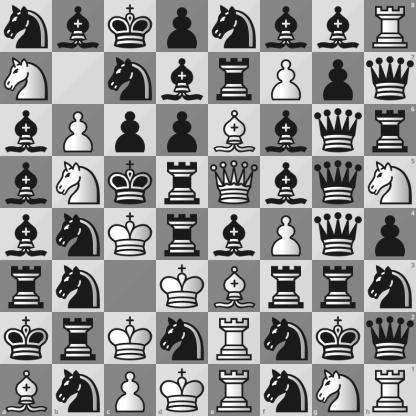B: (0, 364, 52, 416), (209, 105, 260, 156), (209, 261, 260, 312)
K: (156, 364, 209, 416), (105, 209, 156, 260), (105, 313, 156, 364), (157, 261, 208, 312)
N: (364, 156, 416, 209), (312, 364, 364, 416), (1, 53, 52, 104), (53, 157, 104, 208)
P: (104, 364, 156, 416), (53, 105, 104, 156), (261, 53, 312, 104), (261, 209, 312, 260)
Q: (209, 157, 260, 208)
R: (364, 0, 416, 52), (364, 364, 416, 416), (209, 364, 260, 416), (209, 313, 260, 364)
b: (1, 105, 52, 156), (1, 157, 52, 208), (1, 209, 52, 260), (53, 1, 104, 52), (157, 53, 208, 104), (209, 209, 260, 260), (261, 1, 312, 52), (261, 105, 312, 156), (261, 157, 312, 208), (313, 1, 364, 52)
board: (0, 0, 415, 415)
k: (1, 313, 52, 364), (105, 1, 156, 52), (105, 157, 156, 208), (313, 313, 364, 364)
n: (52, 364, 104, 416), (260, 364, 312, 416), (364, 260, 416, 312), (1, 1, 52, 52), (53, 209, 104, 260), (53, 261, 104, 312), (105, 53, 156, 104), (157, 313, 208, 364), (209, 1, 260, 52), (261, 313, 312, 364)
p: (364, 209, 416, 260), (105, 105, 156, 156), (157, 1, 208, 52), (157, 105, 208, 156), (313, 53, 364, 104)
q: (364, 52, 416, 104), (364, 312, 416, 364), (313, 105, 364, 156), (313, 157, 364, 208), (313, 209, 364, 260)
r: (364, 104, 416, 156), (1, 261, 52, 312), (53, 313, 104, 364), (157, 157, 208, 208), (157, 209, 208, 260), (209, 53, 260, 104), (261, 261, 312, 312), (313, 261, 364, 312)
